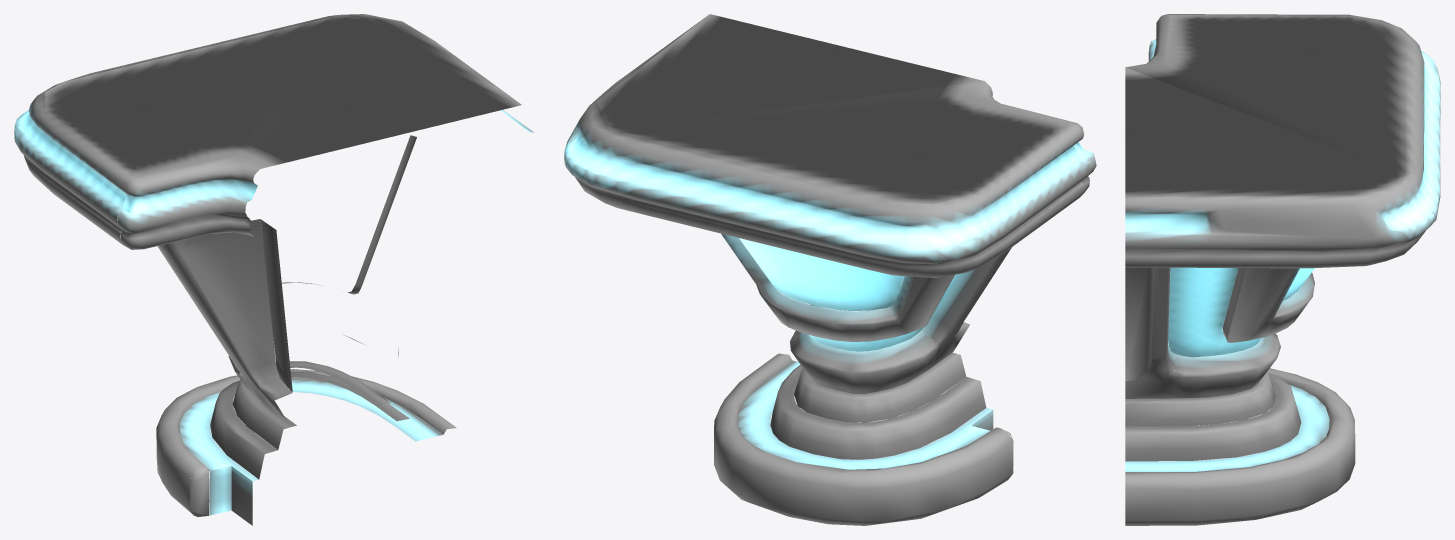
Rendered from table_bar_b.glb.
3 renders of one model, left to right at view 1: azimuth 30°, elevation 25°; view 2: azimuth 150°, elevation 25°; view 3: azimuth 270°, elevation 25°, orthographic. The views are drawn at different scales.
Parts seen in each view (by area): view 1: table_bar; view 2: table_bar; view 3: table_bar.
Part boxes in pixels (x1,y1,x2,y2): table_bar: (14, 14, 533, 525); table_bar: (564, 14, 1096, 525); table_bar: (1125, 14, 1440, 525).
Size of the model in its own units: 1.29 by 1.1 by 0.8676.
Materials: 1 (1 with a texture image).
